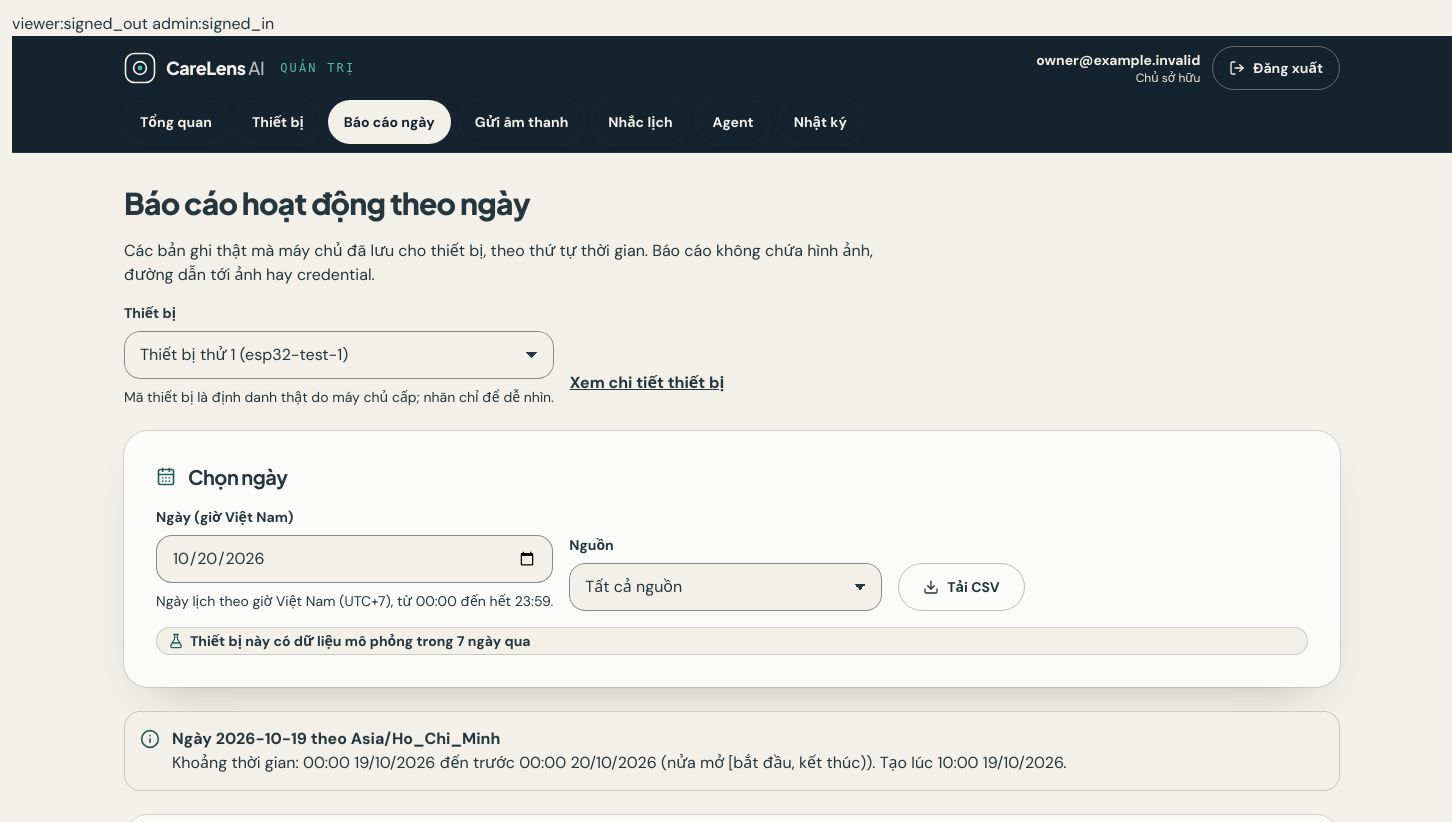
daily activity report › loads another day when the date changes and says when a day has not happened yet
In the date field labelled "Ngày (giờ Việt Nam)": [355, 558] box 156,534 -> 553,582, type "2030-01-01"
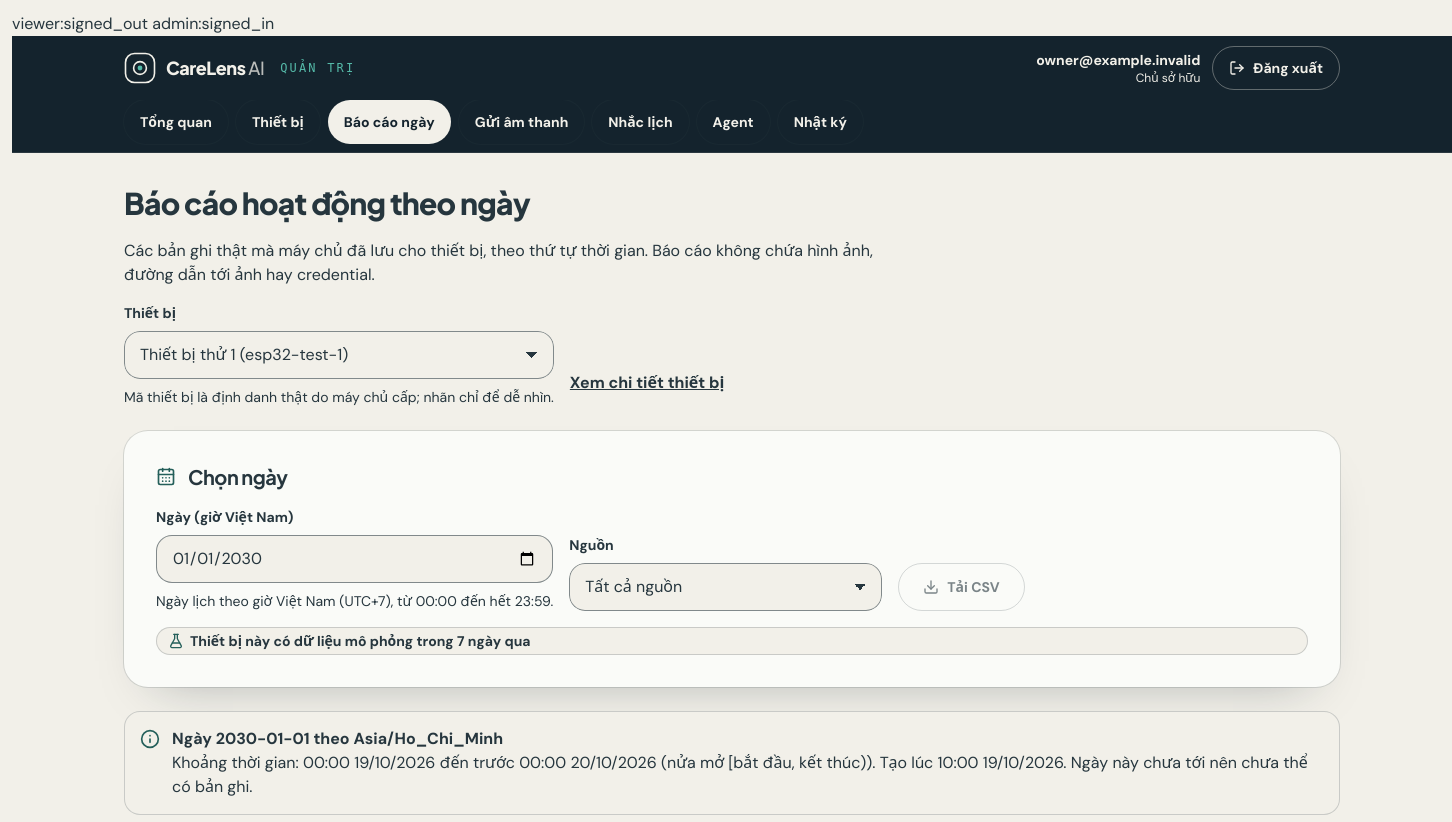
Result: the text "Ngày này chưa tới nên chưa thể có bản ghi" is shown at 172,752 -> 1308,796
